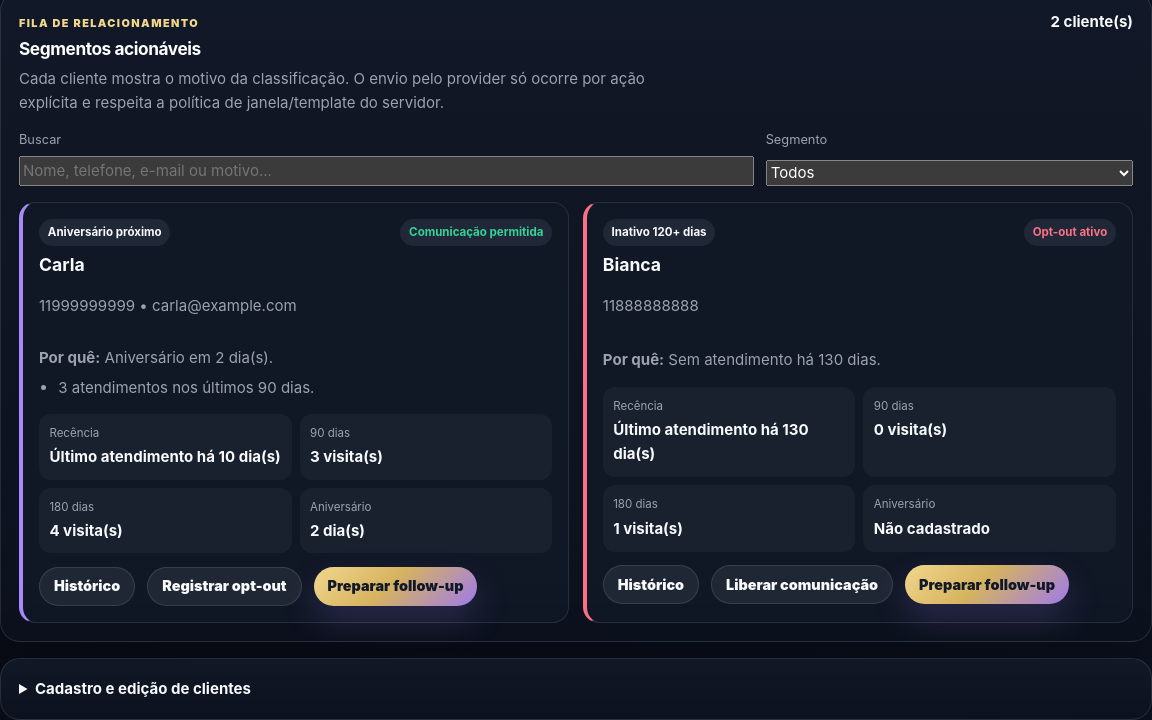
Test: CRMRetentionHub › carrega histórico somente quando solicitado
This screenshot has width=1152, height=720.
(page scrolled)
Click the button "Histórico" below "Último atendimento há 10 dia(s)". click: [87, 586]
box: [39,567,135,606]
(page scrolled)
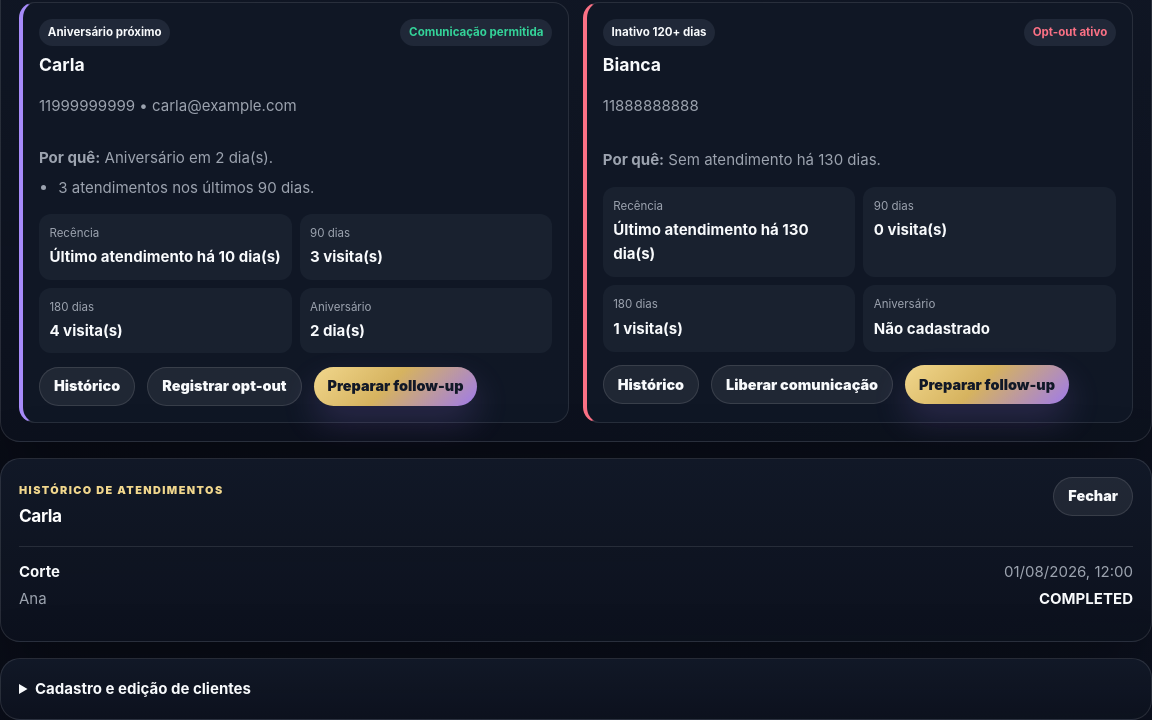
Result: the text "Corte" is shown at [19,560,60,584]
Result: the text "Ana" is shown at [19,589,47,608]
